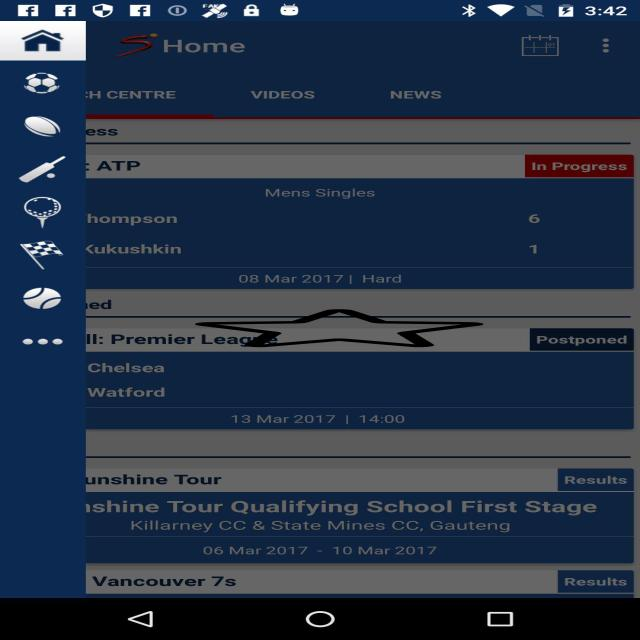forced continuity: (195, 308, 484, 348)
